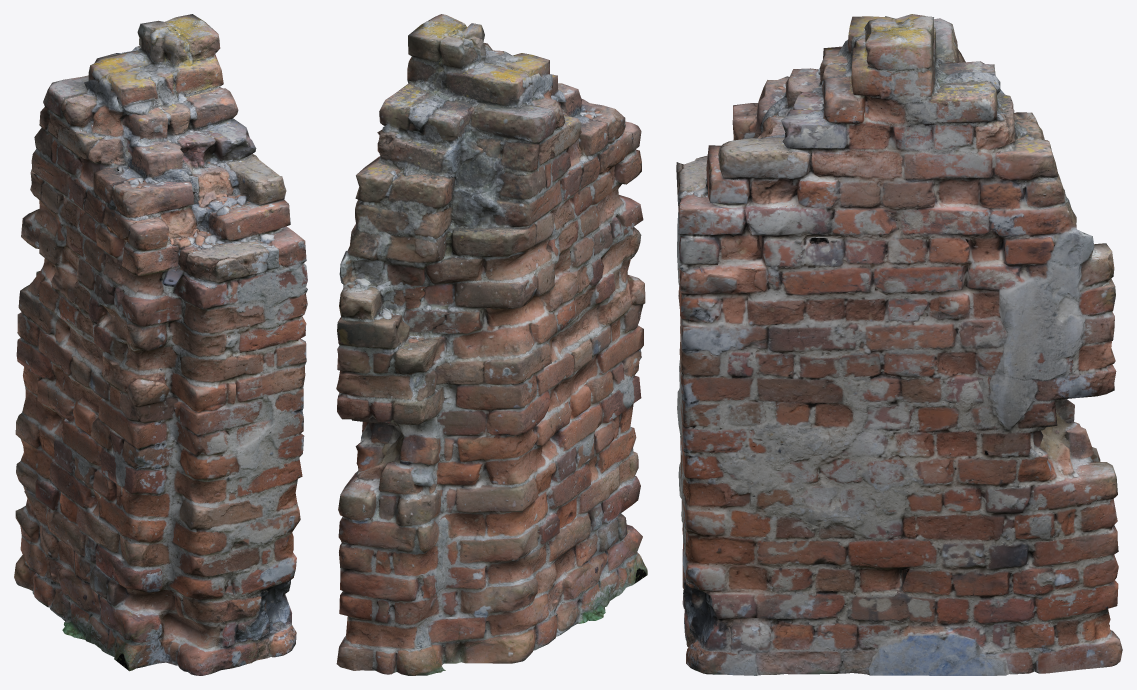
The model's file is sm_Column_01_01.fbx.
The picture shows the model from 3 angles, left to right: view 1: azimuth 30°, elevation 25°; view 2: azimuth 150°, elevation 25°; view 3: azimuth 270°, elevation 25°; orthographic projection. The views are drawn at different scales.
Parts seen in each view (by area): view 1: sm_Column_01_01_LOD0; view 2: sm_Column_01_01_LOD0; view 3: sm_Column_01_01_LOD0.
Boxes of the visible parts, box(x1,y1,x2,y2) form: sm_Column_01_01_LOD0: box(14, 14, 307, 675); sm_Column_01_01_LOD0: box(336, 14, 647, 675); sm_Column_01_01_LOD0: box(676, 14, 1122, 675).
Size of the model in its own units: 68.68 by 142 by 221.
